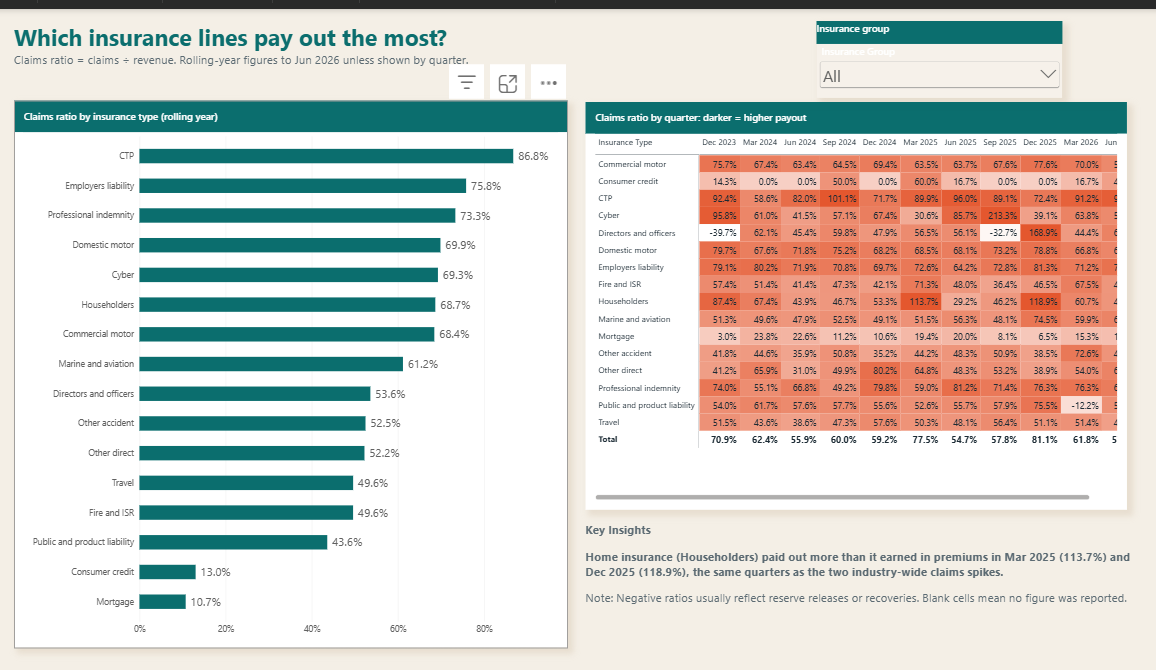

The dashboard page shown, as its layout file describes it:
{"tool":"powerbi","page":{"name":"Insurance Type","canvas":[1920,1080],"ordinal":1},"visuals":[{"type":"textbox","box":[40,20,1500,110],"z":0},{"type":"slicer","title":"Insurance group","fields":{"Values":["Insurance Data.Insurance Group"]},"box":[1344.3,19.5,400.1,124.4],"z":1000},{"type":"clusteredBarChart","title":"Claims ratio by insurance type (rolling year)","fields":{"Category":["Insurance Data.Insurance Type"],"Y":["Measure_Table.Claims Ratio R4Q"]},"box":[40,150,900,890],"z":2000},{"type":"pivotTable","title":"Claims ratio by quarter: darker = higher payout","fields":{"Columns":["Date.Quarter Label"],"Rows":["Insurance Data.Insurance Type"],"Values":["Measure_Table.Claims Ratio (Qtr)"]},"box":[968.6,151.3,880.8,663.6],"z":3000},{"type":"textbox","box":[969.1,835.4,911.4,203.5],"z":4000}]}

Visuals, with their boxes in screenshot pixels (x1, y1, x2, y2), scaled from the page's 1920x1080 canvas onto the 1156x670 screenshot:
textbox: <region>24, 12, 927, 81</region>
"Insurance group" slicer: <region>809, 12, 1050, 89</region>
"Claims ratio by insurance type (rolling year)" clusteredBarChart: <region>24, 93, 566, 645</region>
"Claims ratio by quarter: darker = higher payout" pivotTable: <region>583, 94, 1113, 506</region>
textbox: <region>583, 518, 1132, 645</region>
